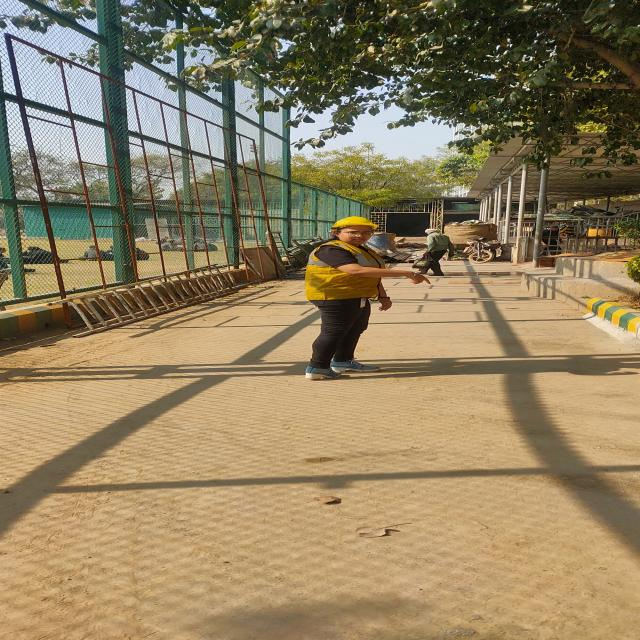safe: (304, 217, 392, 379)
unsafe: (419, 229, 454, 276), (18, 245, 55, 265), (82, 245, 114, 260), (159, 238, 184, 252)
